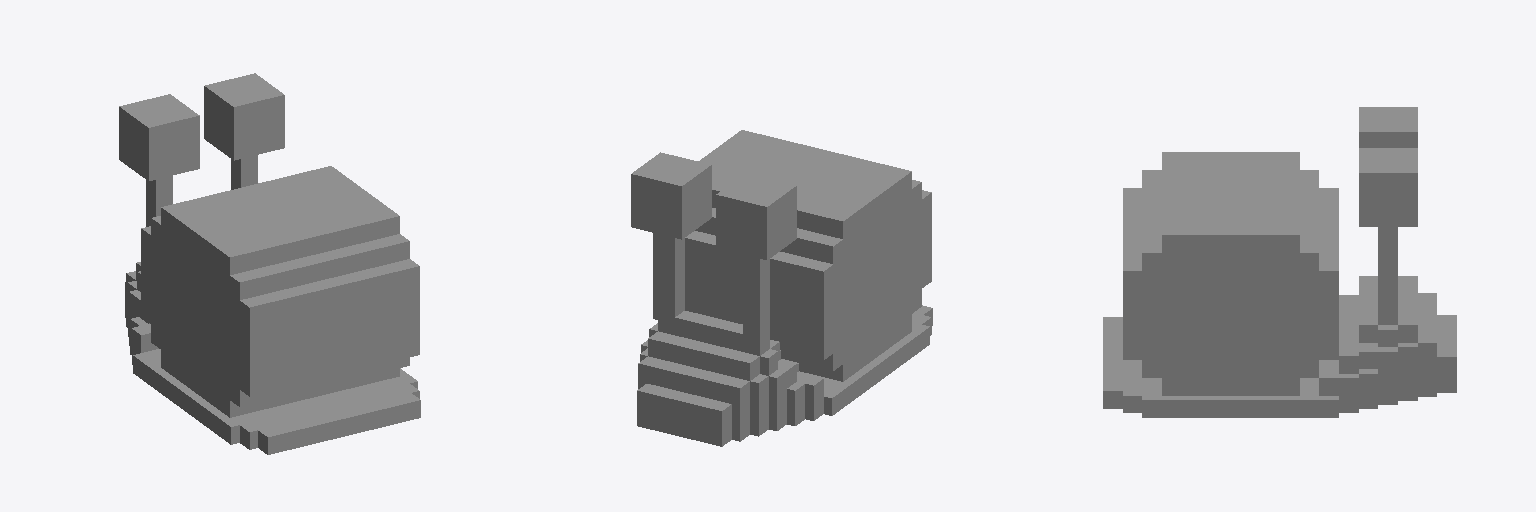
Rendered from snail.obj.
3 renders of one model, left to right at view 1: azimuth 30°, elevation 25°; view 2: azimuth 150°, elevation 25°; view 3: azimuth 270°, elevation 25°, orthographic.
Parts seen in each view (by area): view 1: snail; view 2: snail; view 3: snail.
Boxes of the visible parts, <box> form: snail: <box>119,73,420,454</box>; snail: <box>631,130,932,446</box>; snail: <box>1103,107,1456,417</box>.
Size of the model in its own units: 0.6875 by 0.8125 by 1.12.